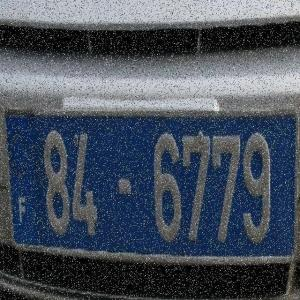Plate: (2, 81, 300, 284)
